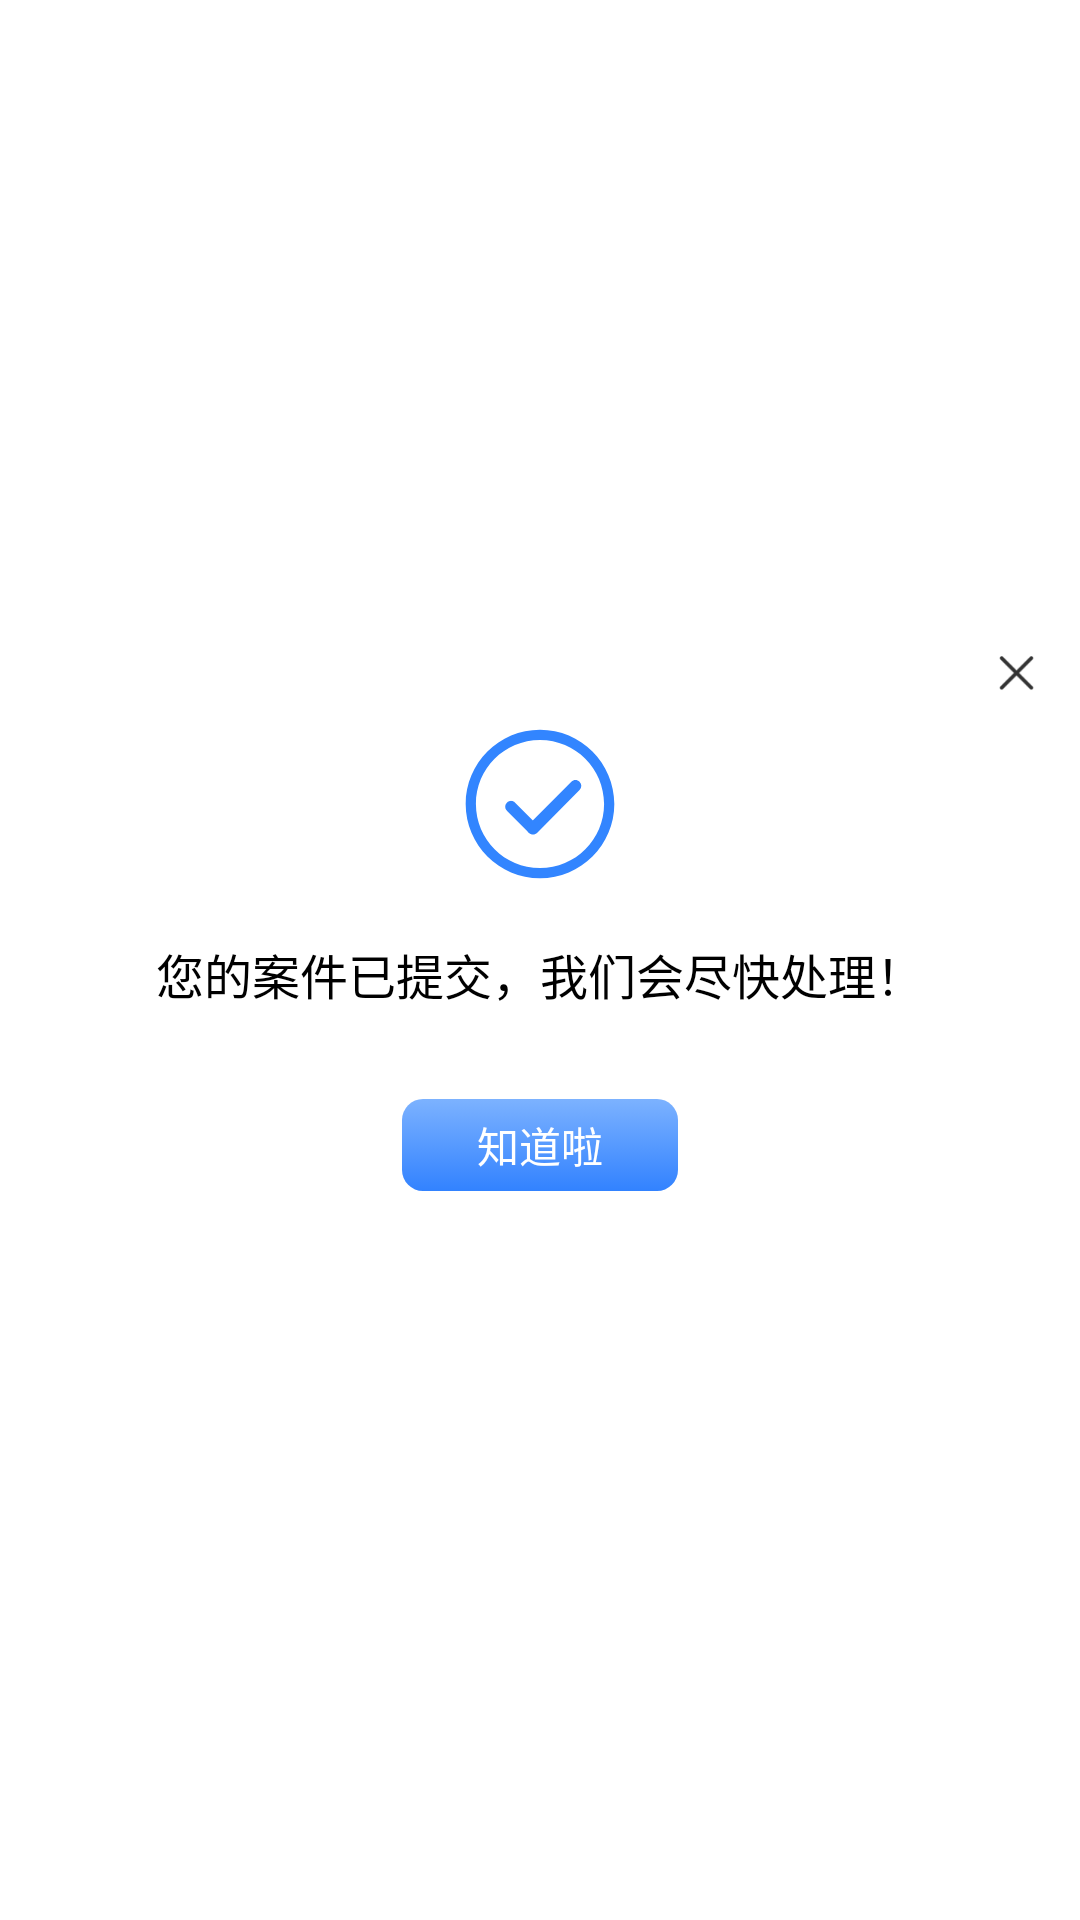

Icon bounding boxes for this 1080px×1920px phone screenshot, format [left=x1, top=y1, right=x2, bottom=y2]:
close: [left=999, top=656, right=1034, bottom=690]
